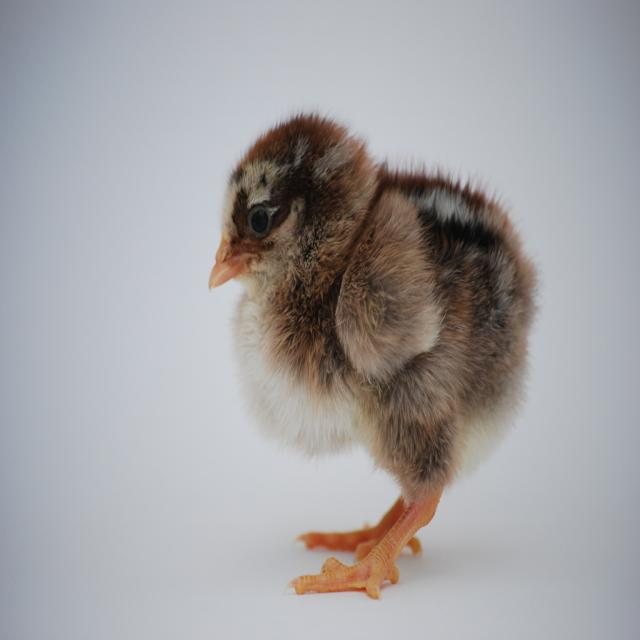Chicken: (218, 97, 526, 593)
